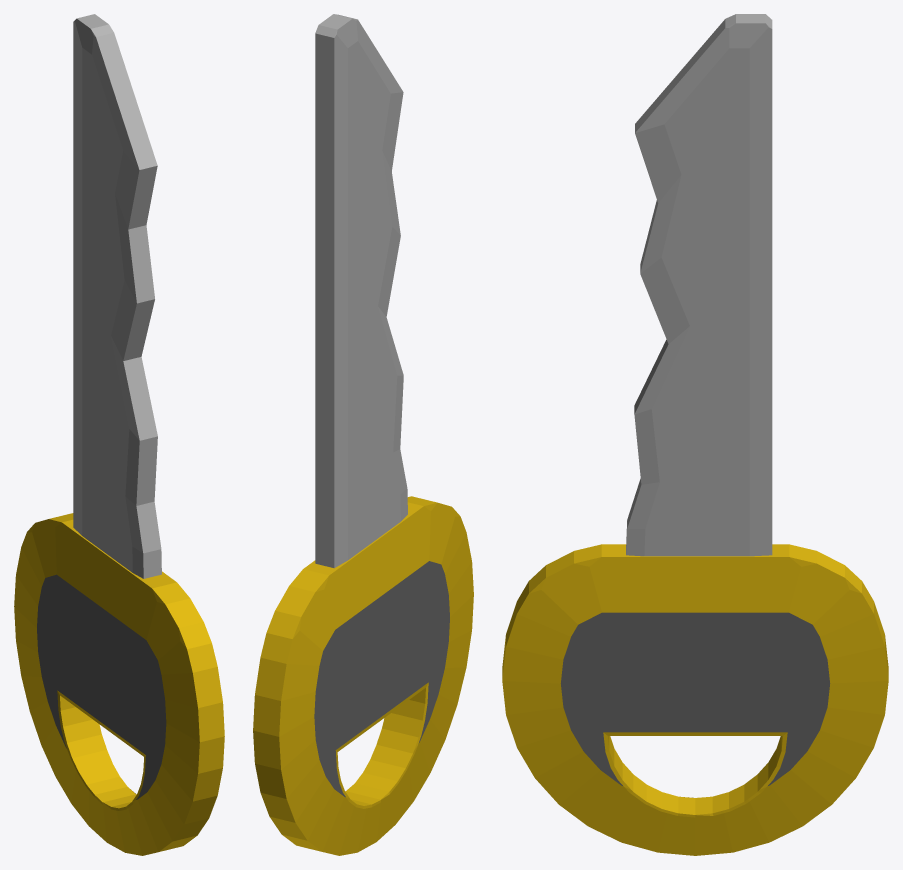
Rendered from key-yellow-lowpoly.fbx.
The picture shows the model from 3 angles, left to right: view 1: azimuth 30°, elevation 25°; view 2: azimuth 150°, elevation 25°; view 3: azimuth 270°, elevation 25°; orthographic projection. The views are drawn at different scales.
Visible parts, largest first — view 1: key; view 2: key; view 3: key.
Part boxes in pixels (x1,y1,x2,y2): key: [14, 14, 224, 855]; key: [253, 14, 473, 855]; key: [502, 14, 888, 855].
Bounding box in the file's own units: 1.11 × 23.73 × 10.
1 material, 1 textured.
